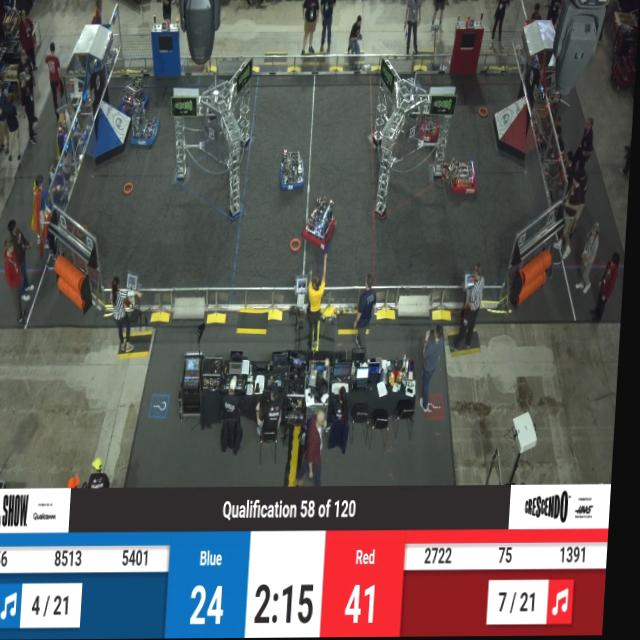Robot: (306, 194, 345, 250), (129, 98, 163, 148), (447, 155, 484, 199), (281, 147, 310, 195), (421, 93, 446, 147), (118, 74, 151, 110)
